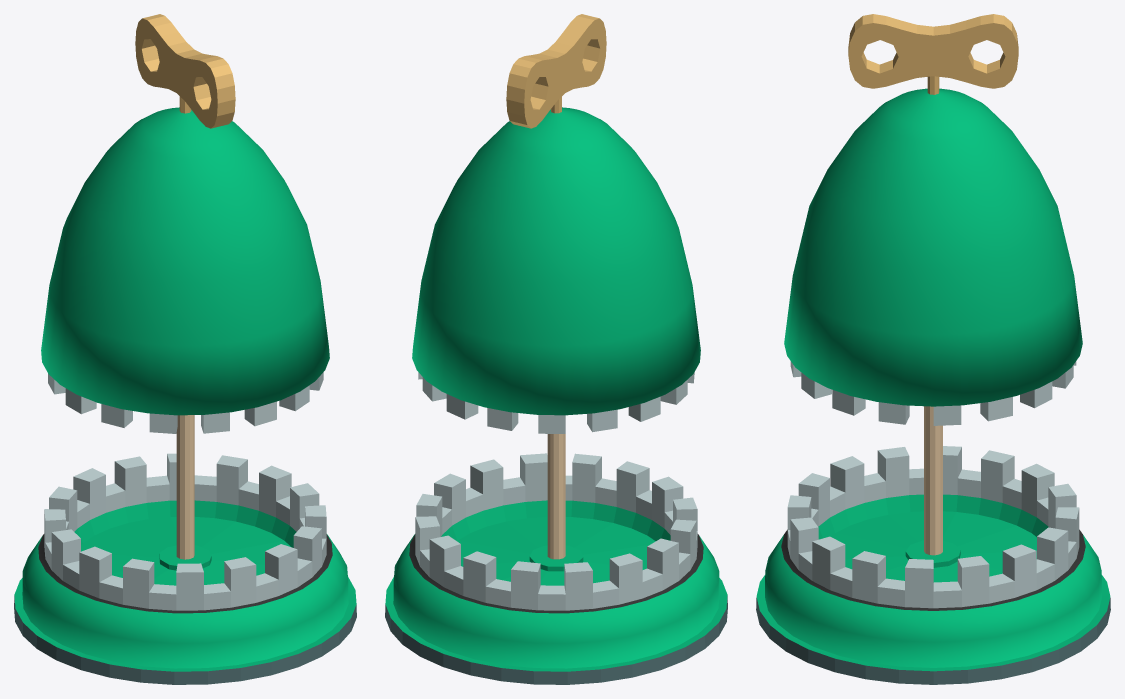
3 views of the same model, side by side, from view 1: azimuth 30°, elevation 25°; view 2: azimuth 150°, elevation 25°; view 3: azimuth 270°, elevation 25° (orthographic). The views are drawn at different scales.
Visible parts, largest first — view 1: terry_body_upper.001, terry_body_bottom.001, terry_reloading_key.001, terry_central_bar.001; view 2: terry_body_upper.001, terry_body_bottom.001, terry_reloading_key.001, terry_central_bar.001; view 3: terry_body_upper.001, terry_body_bottom.001, terry_reloading_key.001, terry_central_bar.001.
Boxes of the visible parts, left/top/right/bottom form: terry_body_upper.001: left=41, top=107, right=329, bottom=433; terry_body_bottom.001: left=14, top=453, right=356, bottom=684; terry_reloading_key.001: left=135, top=14, right=235, bottom=128; terry_central_bar.001: left=176, top=415, right=194, bottom=559; terry_body_upper.001: left=412, top=107, right=700, bottom=433; terry_body_bottom.001: left=385, top=453, right=727, bottom=684; terry_reloading_key.001: left=506, top=14, right=606, bottom=128; terry_central_bar.001: left=547, top=434, right=565, bottom=559; terry_body_upper.001: left=784, top=88, right=1082, bottom=425; terry_body_bottom.001: left=756, top=446, right=1110, bottom=684; terry_reloading_key.001: left=848, top=14, right=1018, bottom=94; terry_central_bar.001: left=924, top=406, right=942, bottom=555.
Size of the model in its own units: 2.33 by 2.33 by 4.29.
